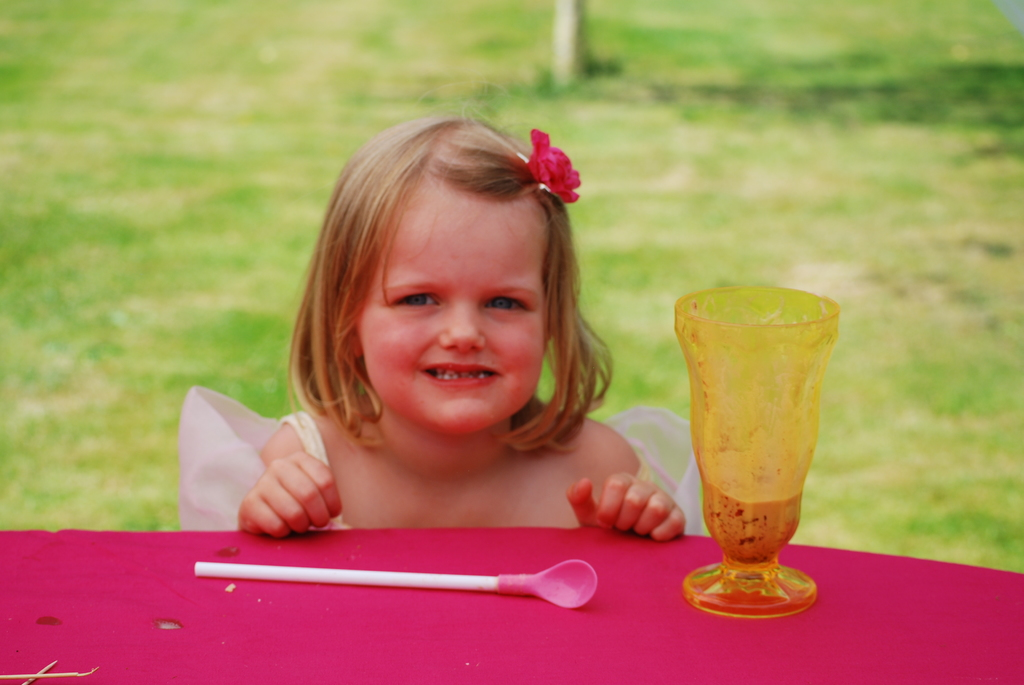Human_hand: (233, 445, 344, 537), (577, 479, 677, 551)
